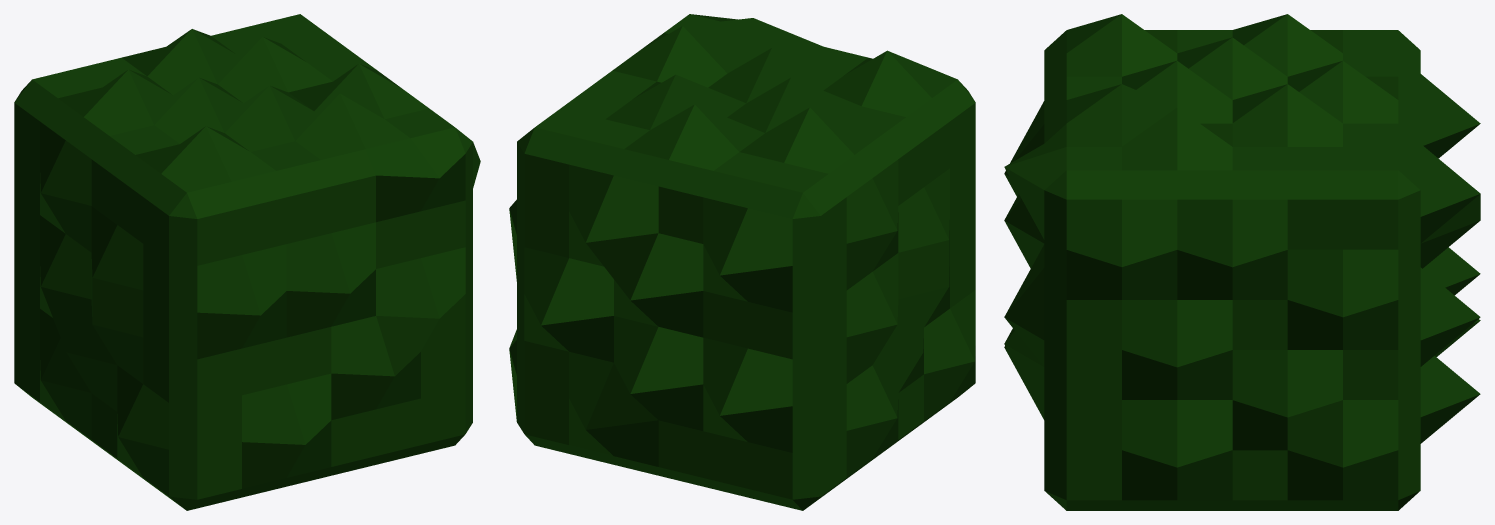
The model's file is Bush_4.fbx.
3 views of the same model, side by side, from view 1: azimuth 30°, elevation 25°; view 2: azimuth 150°, elevation 25°; view 3: azimuth 270°, elevation 25° (orthographic). The views are drawn at different scales.
Parts seen in each view (by area): view 1: Bush_4; view 2: Bush_4; view 3: Bush_4.
Boxes of the visible parts, bbox=[...] form: Bush_4: bbox=[14, 14, 480, 510]; Bush_4: bbox=[509, 14, 975, 510]; Bush_4: bbox=[1004, 14, 1480, 510].
Bounding box in the file's own units: 88.41 × 82.73 × 93.98.
